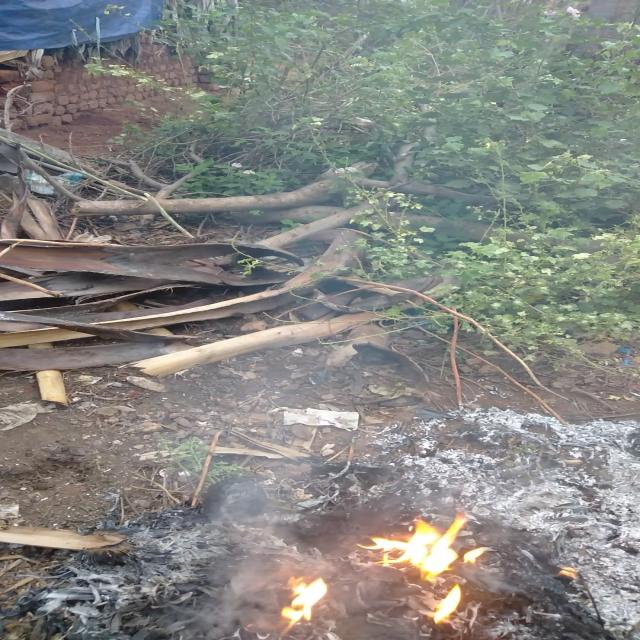Fire: (359, 512, 520, 640), (281, 577, 328, 630)
Smoke: (117, 315, 591, 640)
